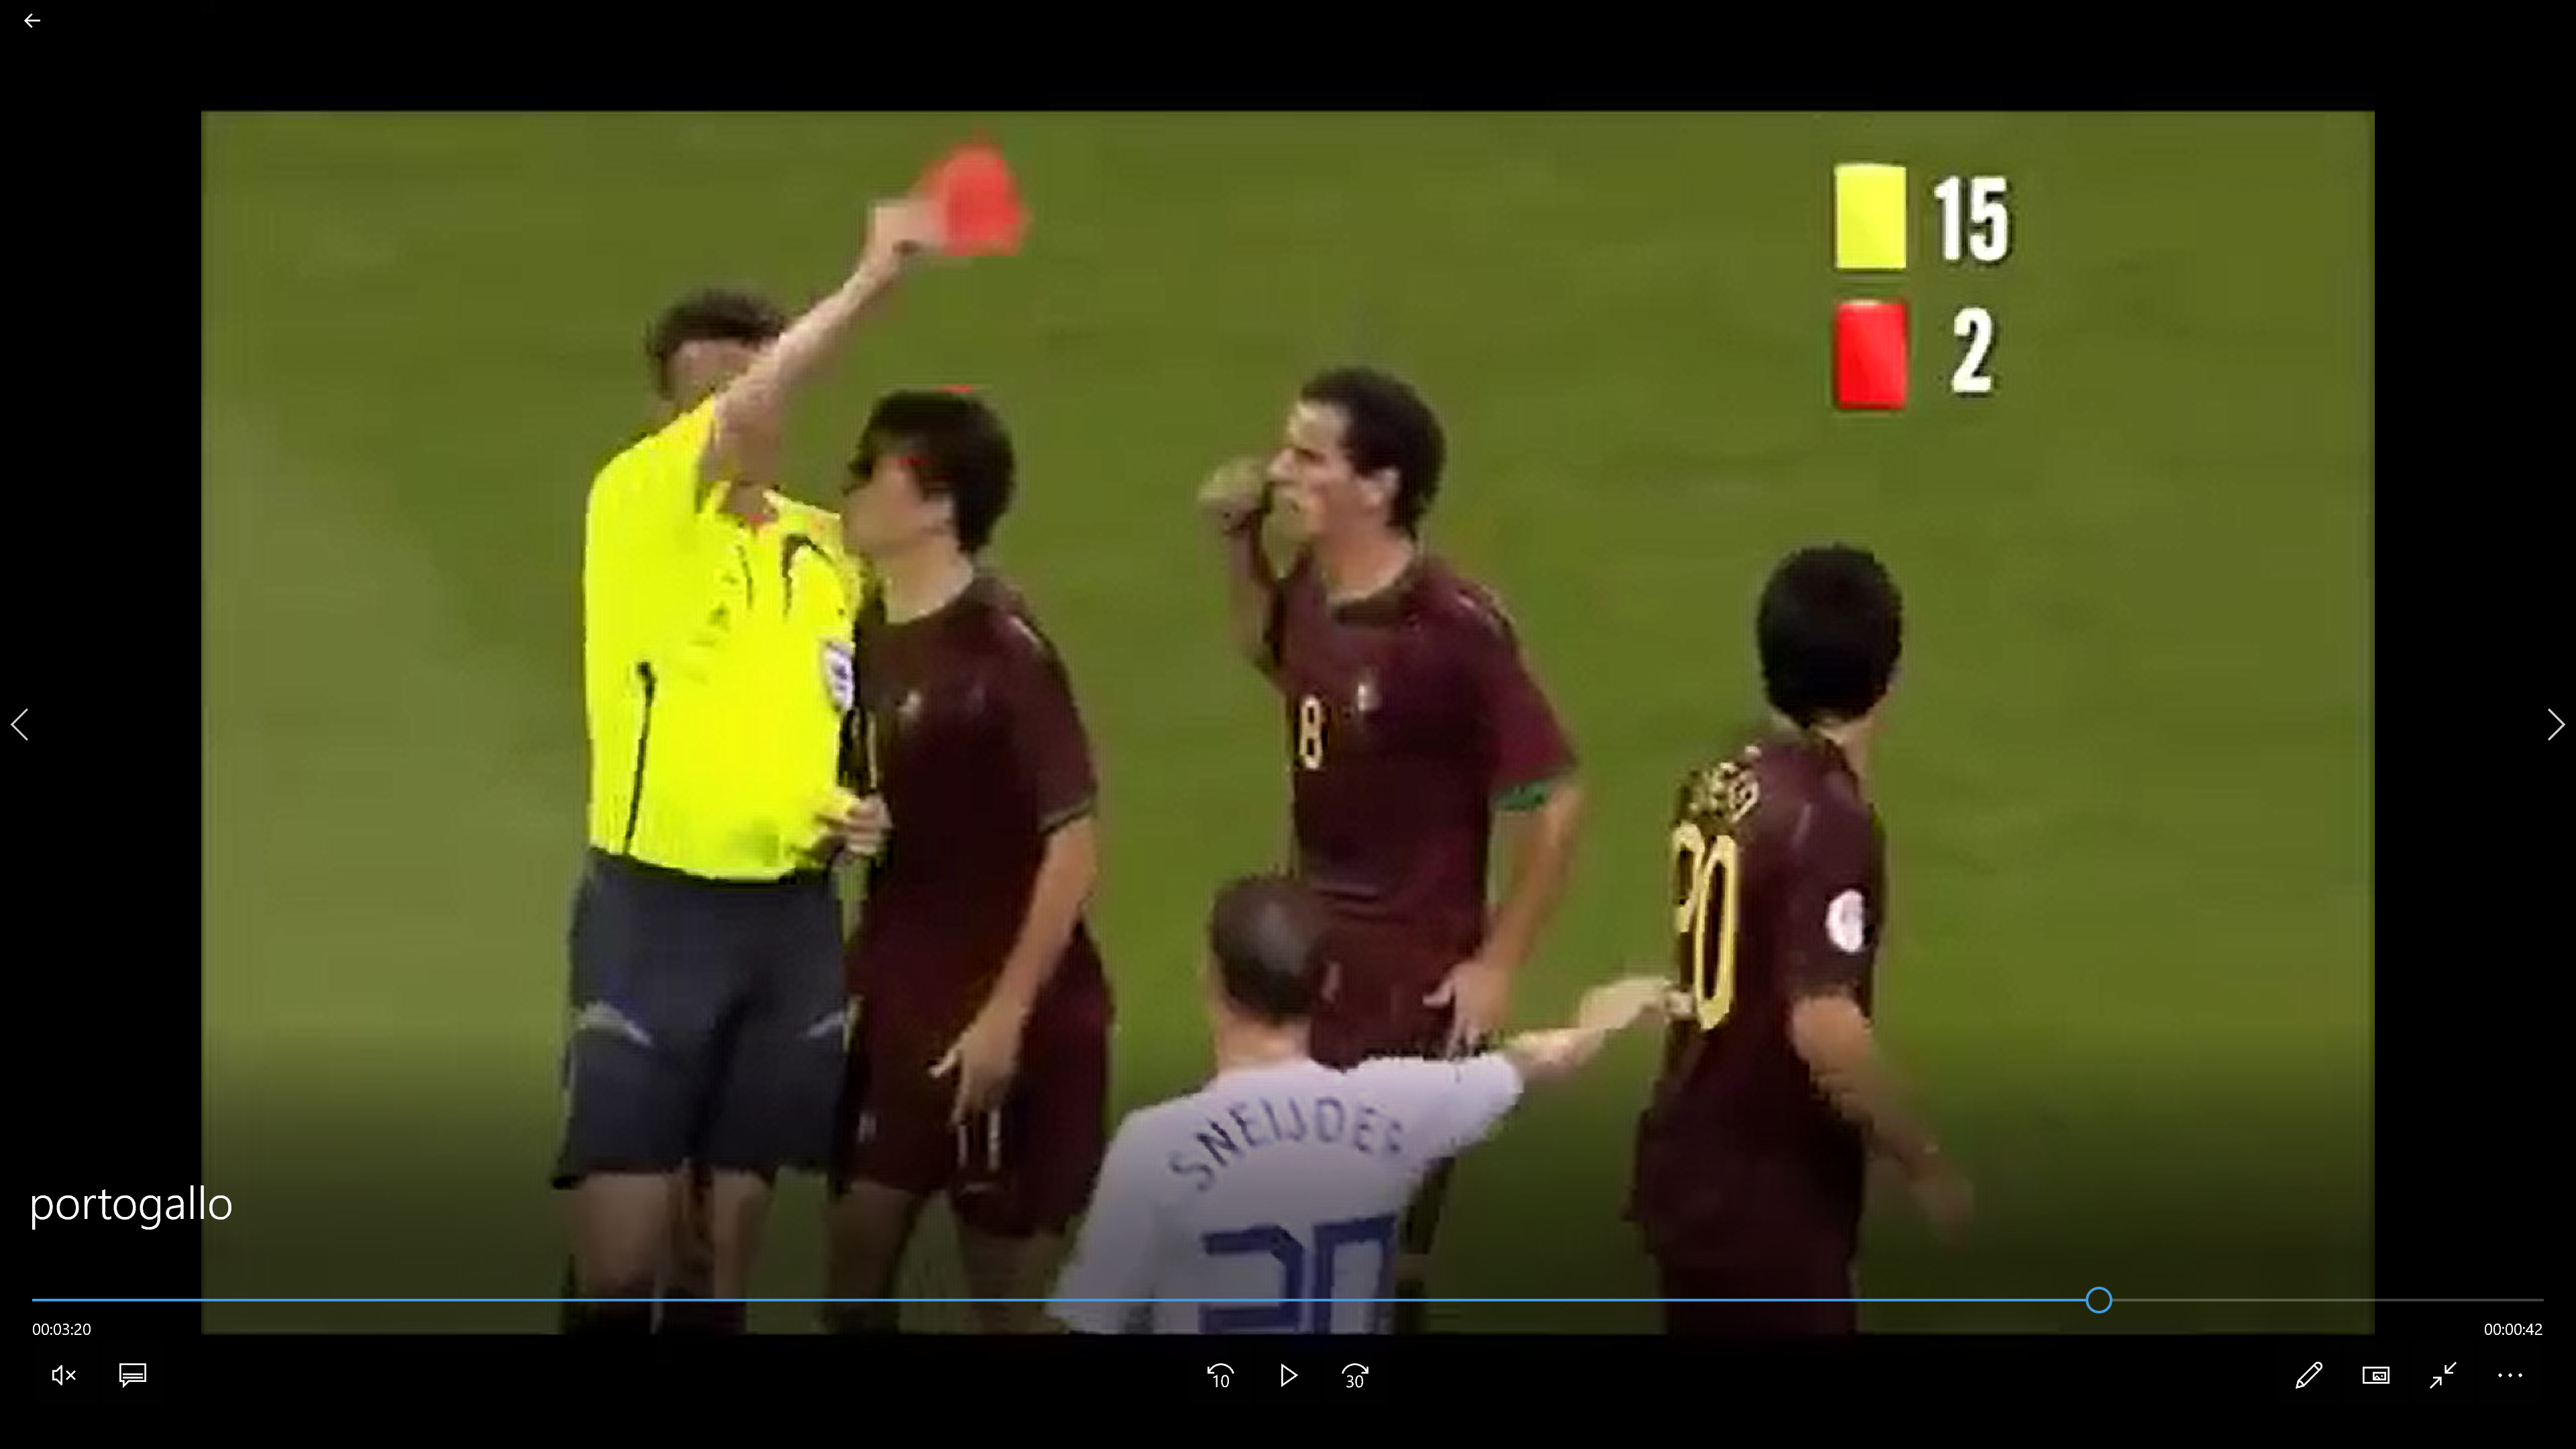red_card: (847, 138, 1037, 292)
